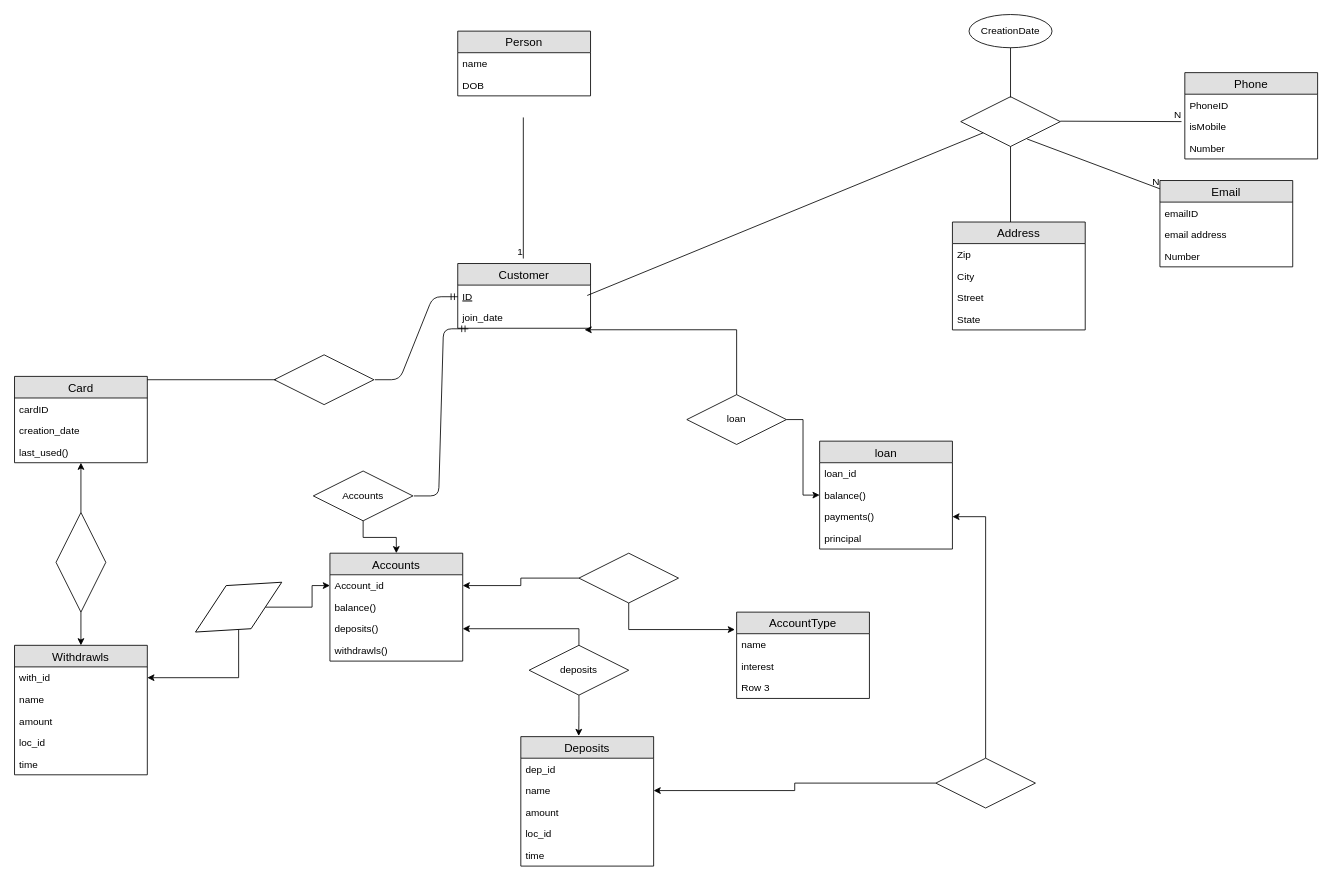
This 1332x883 diagram has some shape labels left out. The shapes that lost their labels are listed below. From the top down, each one's centre as x and y in pixels, then its label:
pixel 1010 121: cust_contact
pixel 323 379: Cards
pixel 80 562: Card Charges
pixel 628 577: type
pixel 238 607: withdrawals
pixel 985 782: Loan Payment
